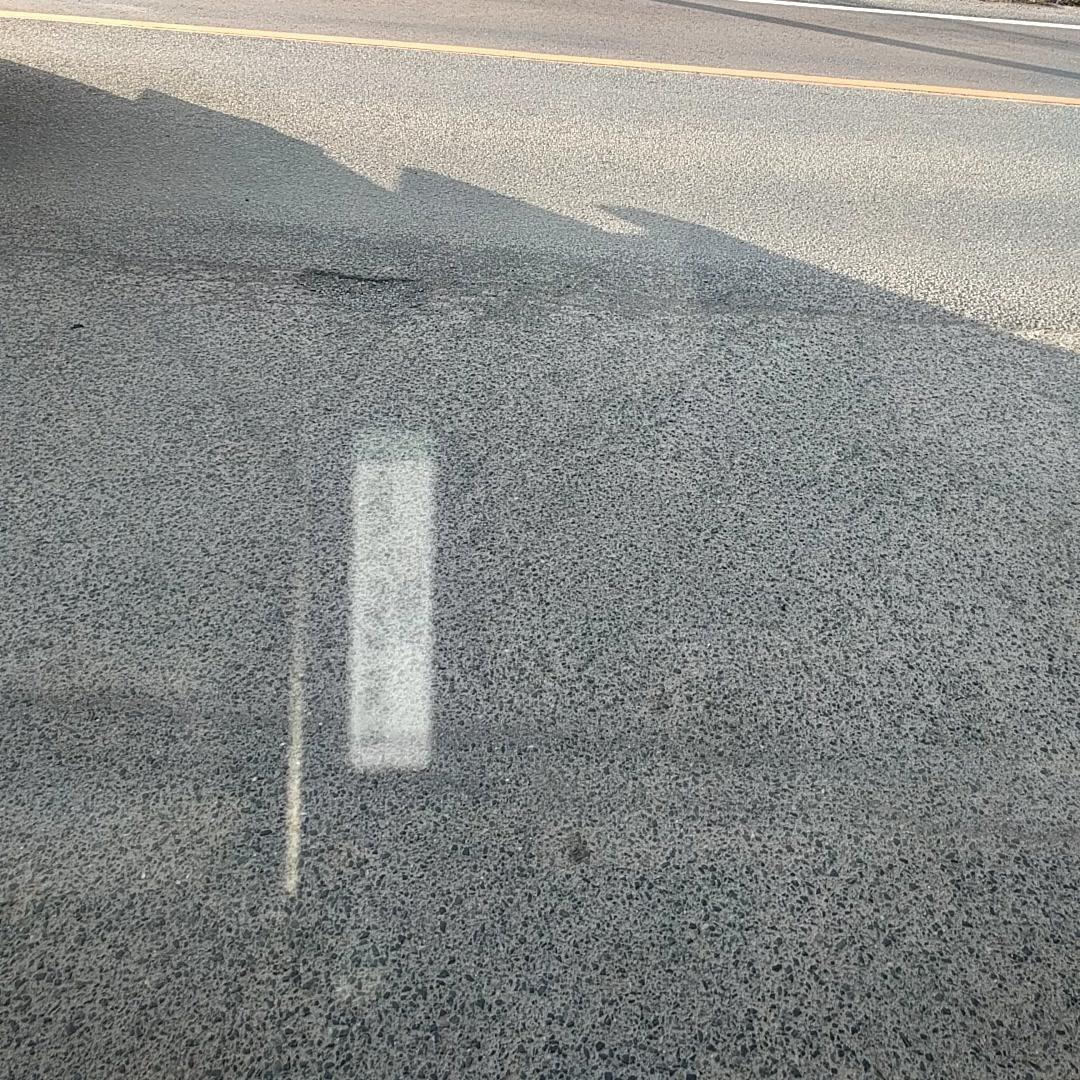pothole: (292, 266, 431, 323)
